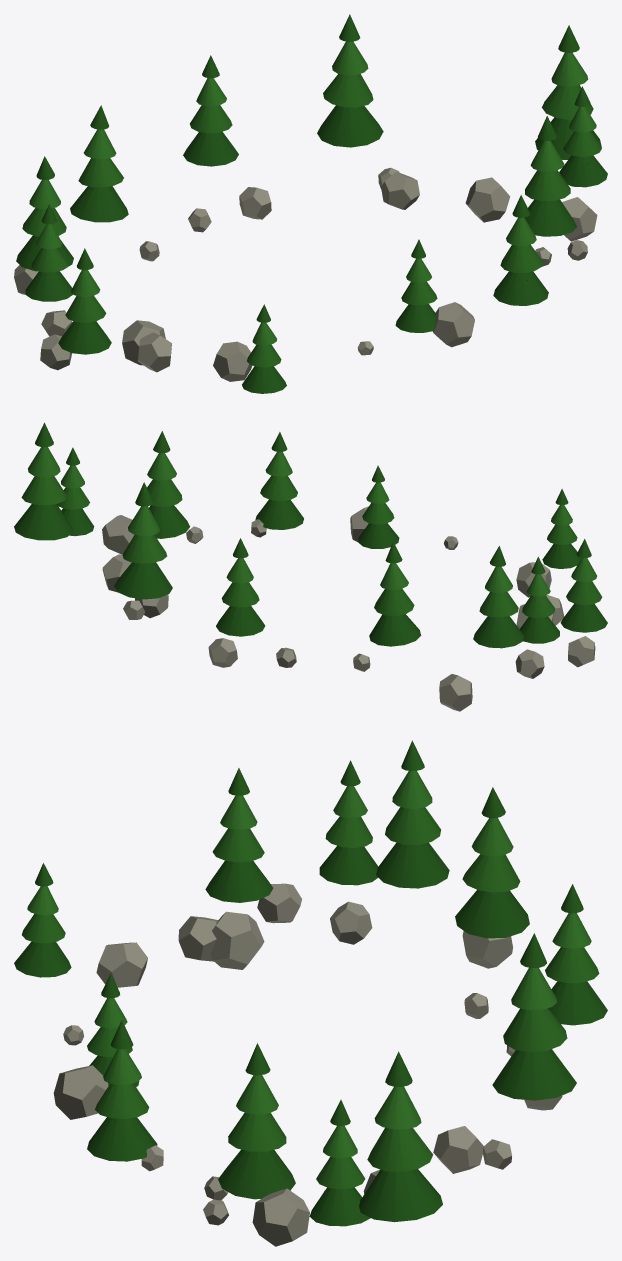
File: lake_station.glb
3 renders of one model, top to bottom at view 1: azimuth 30°, elevation 25°; view 2: azimuth 150°, elevation 25°; view 3: azimuth 270°, elevation 25°, orthographic. The views are drawn at different scales.
Size of the model in its own units: 24.84 by 7.47 by 16.66.
